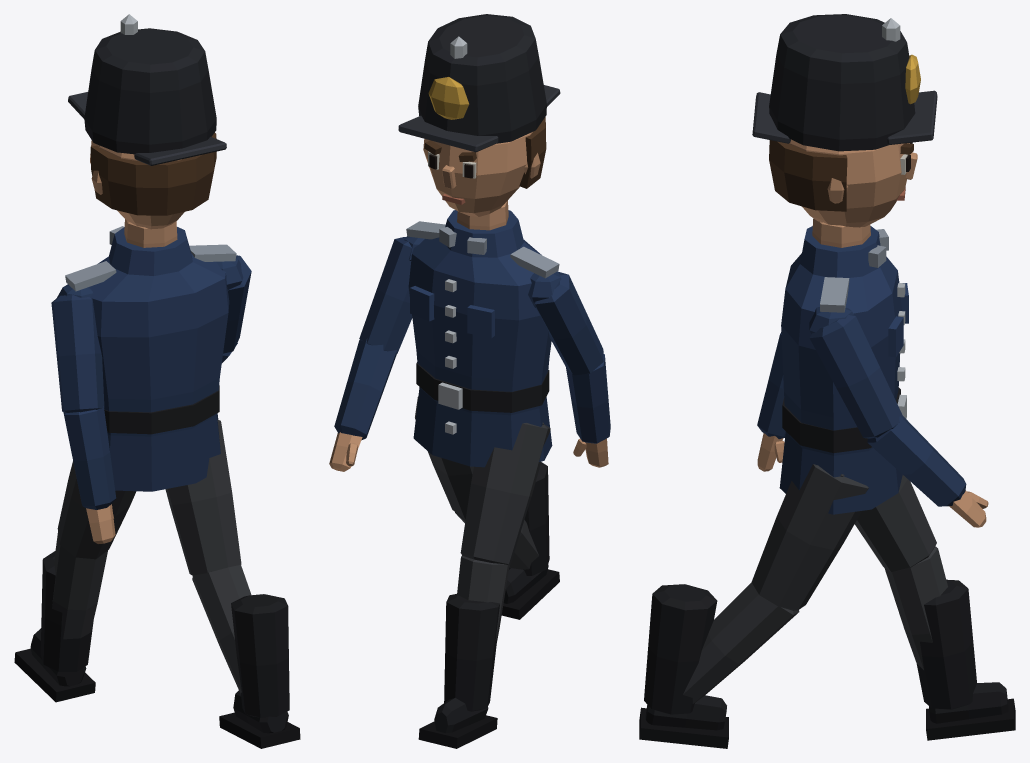
File: chr_police2_w1.glb
3 views of the same model, side by side, from view 1: azimuth 30°, elevation 25°; view 2: azimuth 150°, elevation 25°; view 3: azimuth 270°, elevation 25° (orthographic). The views are drawn at different scales.
Visible parts, largest first — view 1: chr_police2_w1; view 2: chr_police2_w1; view 3: chr_police2_w1.
Part boxes in pixels (x1,y1,x2,y2): chr_police2_w1: (14, 14, 300, 748); chr_police2_w1: (329, 14, 610, 748); chr_police2_w1: (639, 14, 1015, 748).
Bounding box in the file's own units: 0.5634 × 1.76 × 0.8196.
